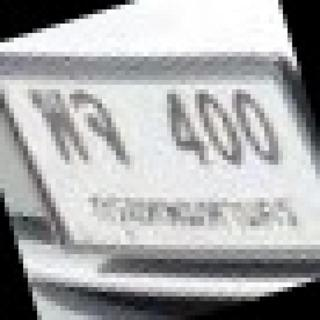A08: (67, 85, 135, 167)
A30: (27, 88, 91, 168)
N00: (230, 88, 286, 167), (191, 88, 245, 168)
N04: (158, 90, 213, 171)
P04: (83, 181, 307, 246)
